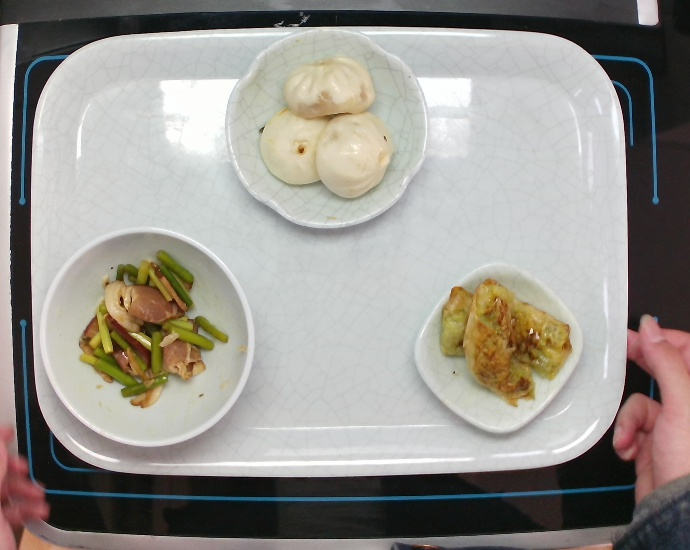JYsf-Ao_Yuan_Wan: (219, 20, 434, 237)
JYsf-Fan_Wan: (27, 218, 263, 454)
JYsf-Si_Fang_Die: (409, 257, 589, 437)
